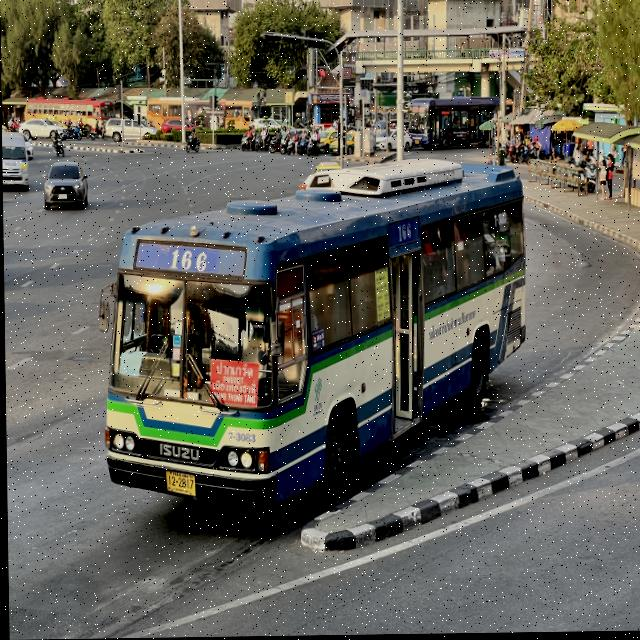BMTA-bus: (97, 157, 529, 513)
Bus-Line-Number: (163, 241, 217, 277)
Destination-Sign-Extra-Bus: (207, 355, 258, 414)
